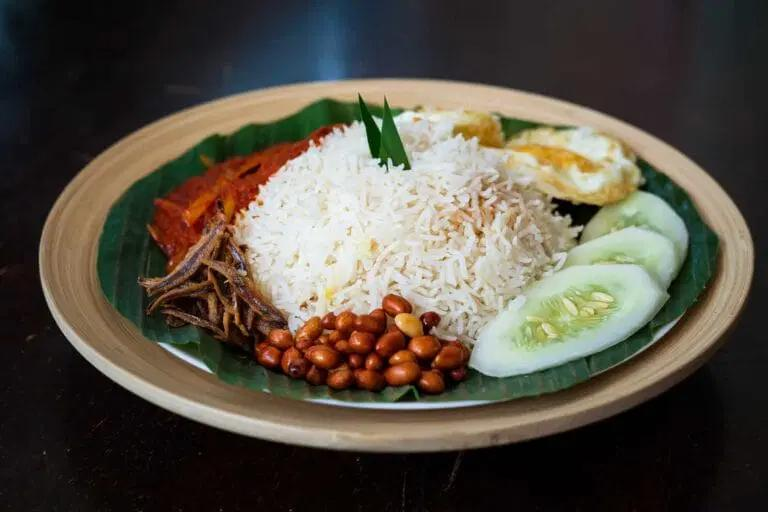Anchovies: (143, 226, 288, 353)
Cucumber: (469, 191, 689, 379)
Fried-Egg: (453, 110, 644, 208)
Peanuts: (261, 296, 469, 396)
Rice: (245, 112, 575, 340)
Sambal: (152, 141, 311, 267)
